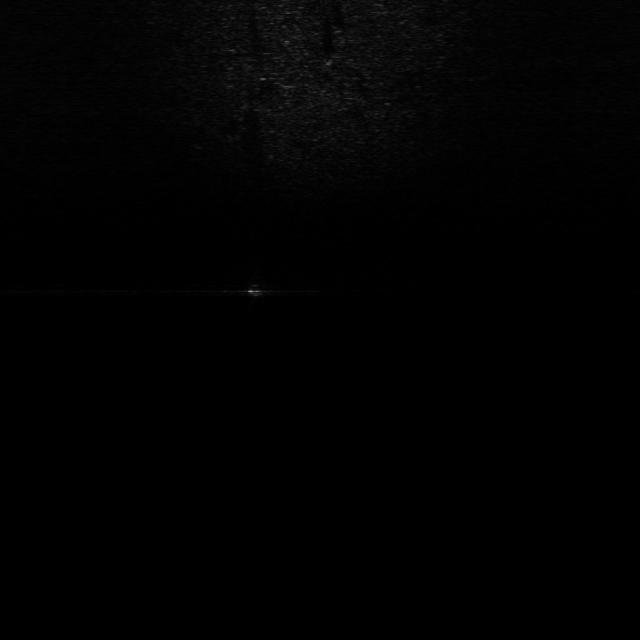human body: (244, 266, 270, 314)
